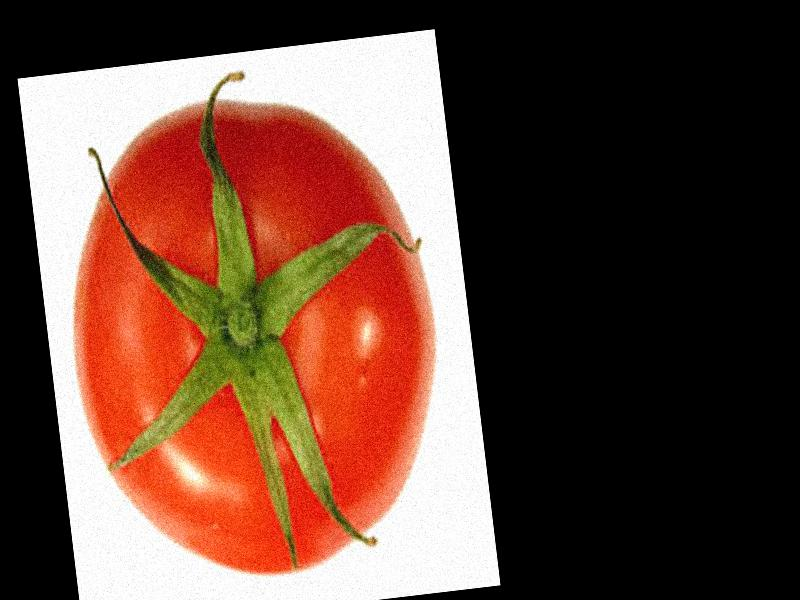Tomato: (47, 78, 459, 597)
